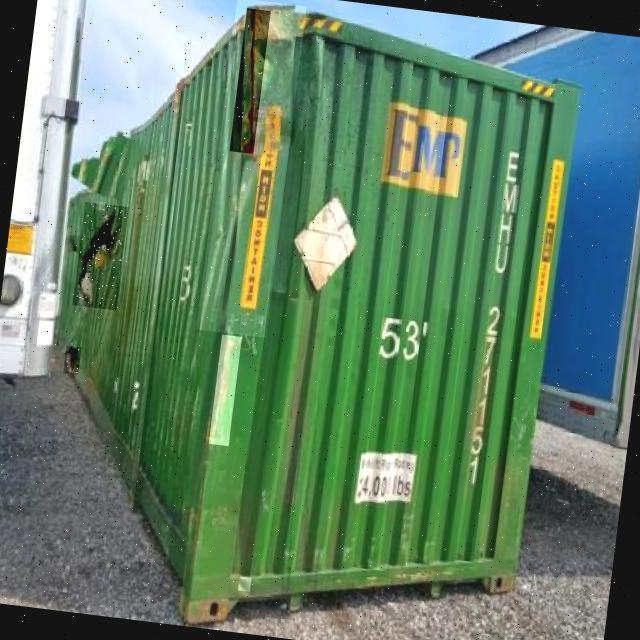Deframe: (196, 0, 306, 338)
Hole: (72, 201, 128, 310)
Minor-Dent: (63, 345, 81, 375), (238, 577, 254, 593), (67, 235, 81, 253)
Rust: (230, 8, 273, 154), (209, 335, 242, 446), (173, 78, 183, 112)
